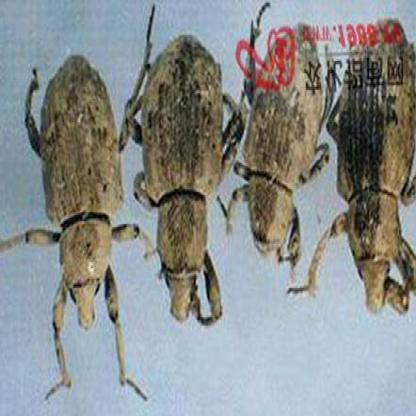rice-bug: (25, 47, 133, 379), (139, 34, 243, 329), (328, 19, 416, 320), (248, 18, 324, 268)
